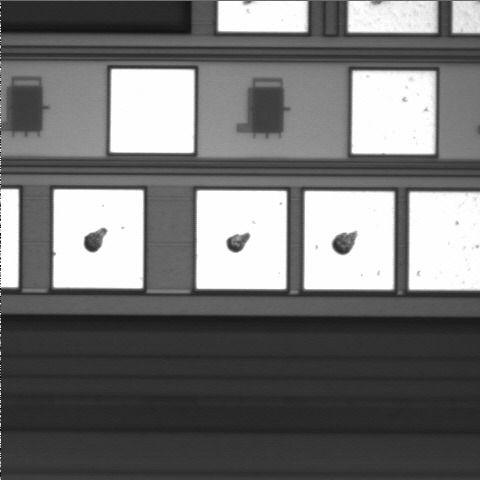pad: (196, 190, 287, 289), (53, 189, 143, 288), (304, 191, 394, 290), (110, 69, 194, 153), (352, 71, 435, 154)
